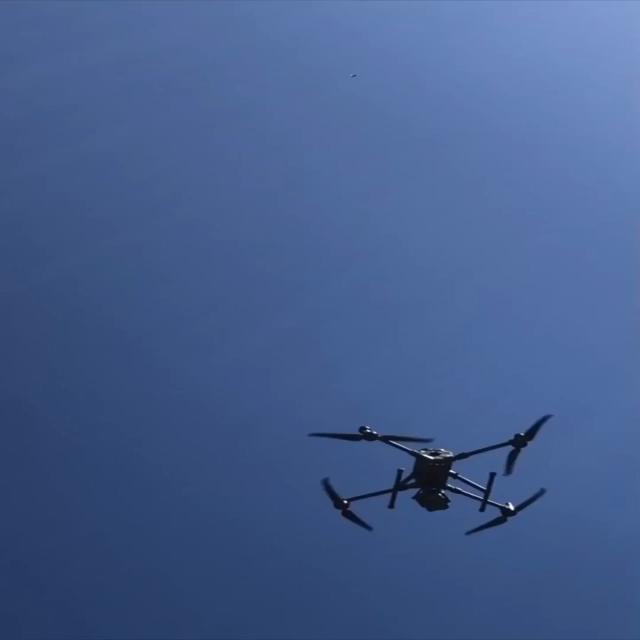drone: (306, 413, 554, 535)
